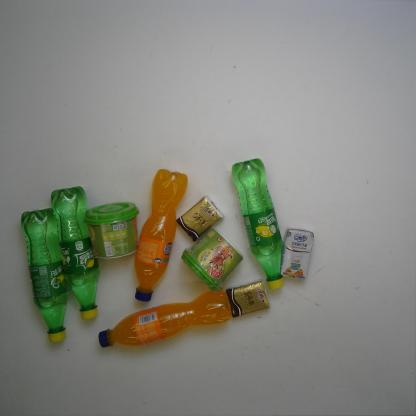Drink: (98, 288, 232, 348), (134, 169, 188, 302), (231, 158, 285, 291), (51, 186, 98, 320), (21, 208, 66, 343)
Instant Drink: (182, 229, 244, 292), (83, 202, 140, 260)
Milk: (280, 228, 314, 279)
Tissue: (177, 195, 224, 242), (226, 279, 271, 318)
